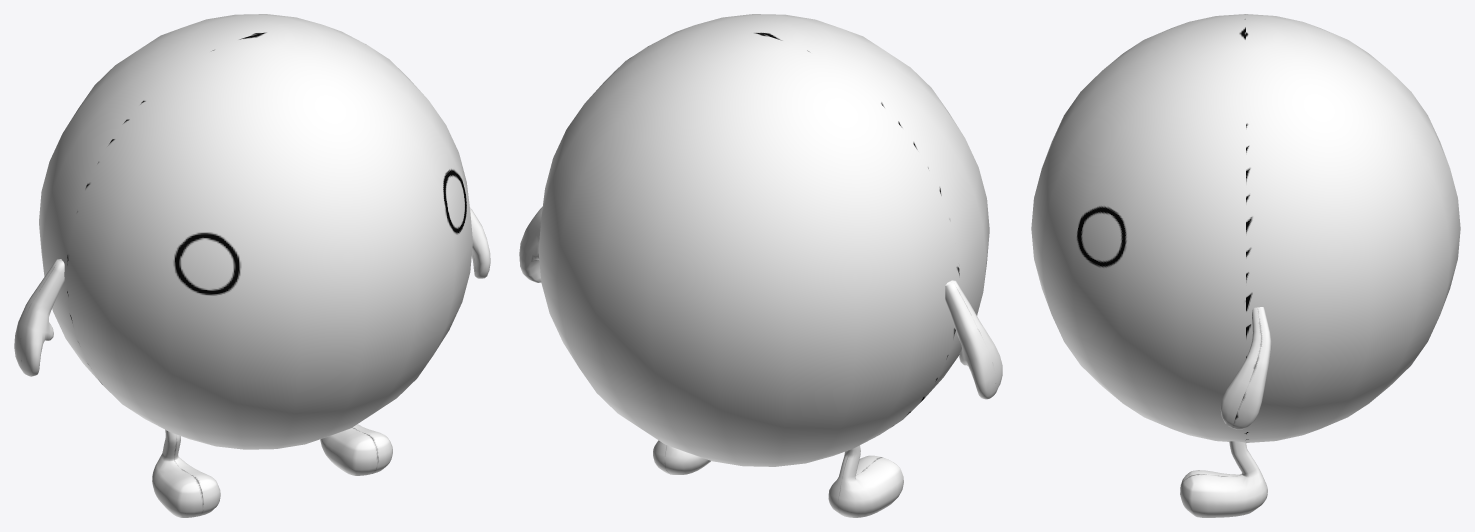
The model's file is smooth sphere.fbx.
3 views of the same model, side by side, from view 1: azimuth 30°, elevation 25°; view 2: azimuth 150°, elevation 25°; view 3: azimuth 270°, elevation 25° (orthographic). The views are drawn at different scales.
Visible parts, largest first — view 1: polySurface2; view 2: polySurface2; view 3: polySurface2.
Part boxes in pixels (x1,y1,x2,y2): polySurface2: (14,14,490,517); polySurface2: (519,14,1002,517); polySurface2: (1031,14,1460,517).
Bounding box in the file's own units: 175 × 162 × 144.
Materials: 1 (1 with a texture image).
